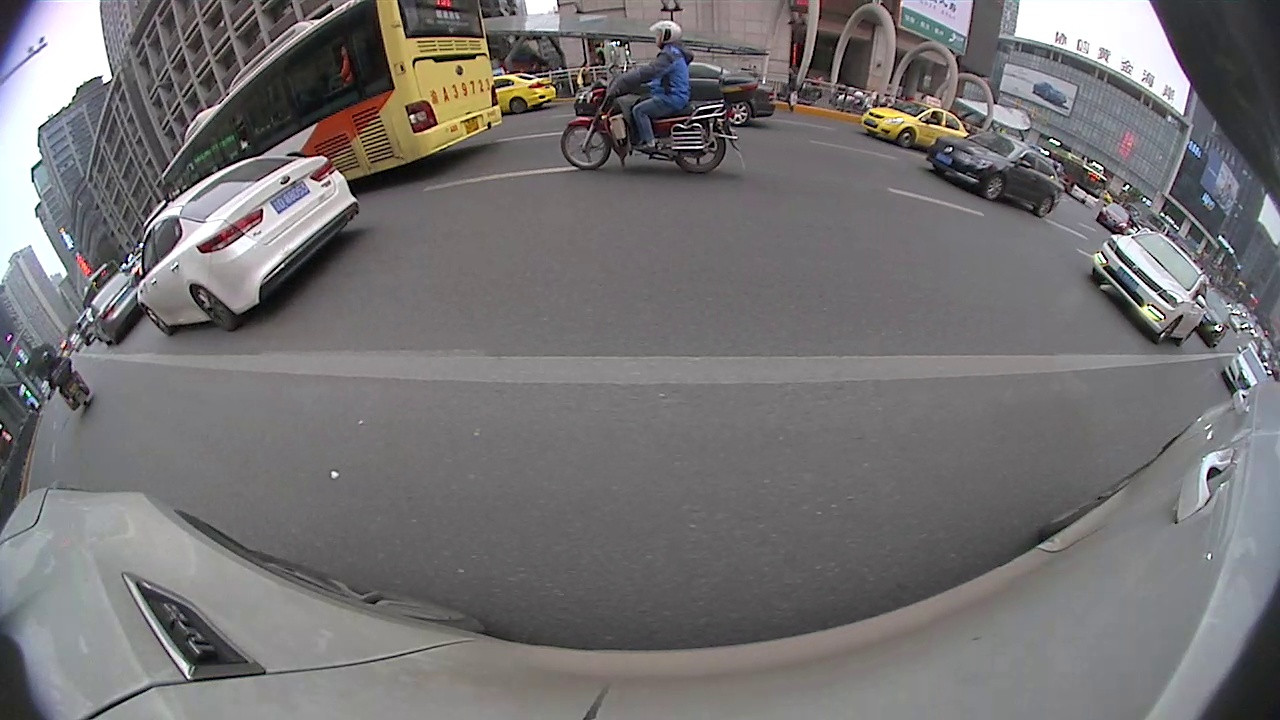bus: (160, 0, 502, 227)
car: (131, 151, 359, 342), (574, 63, 783, 138), (1090, 229, 1210, 347), (923, 132, 1061, 219), (861, 98, 968, 157), (87, 267, 159, 350), (1184, 286, 1239, 350), (1221, 348, 1270, 404)
front: (558, 117, 610, 171), (985, 173, 1005, 203), (897, 128, 916, 149)
rear: (192, 285, 235, 336), (676, 137, 729, 178), (725, 98, 750, 128), (1034, 194, 1055, 221), (508, 97, 527, 114)
rider: (561, 19, 734, 176), (32, 346, 96, 413)
